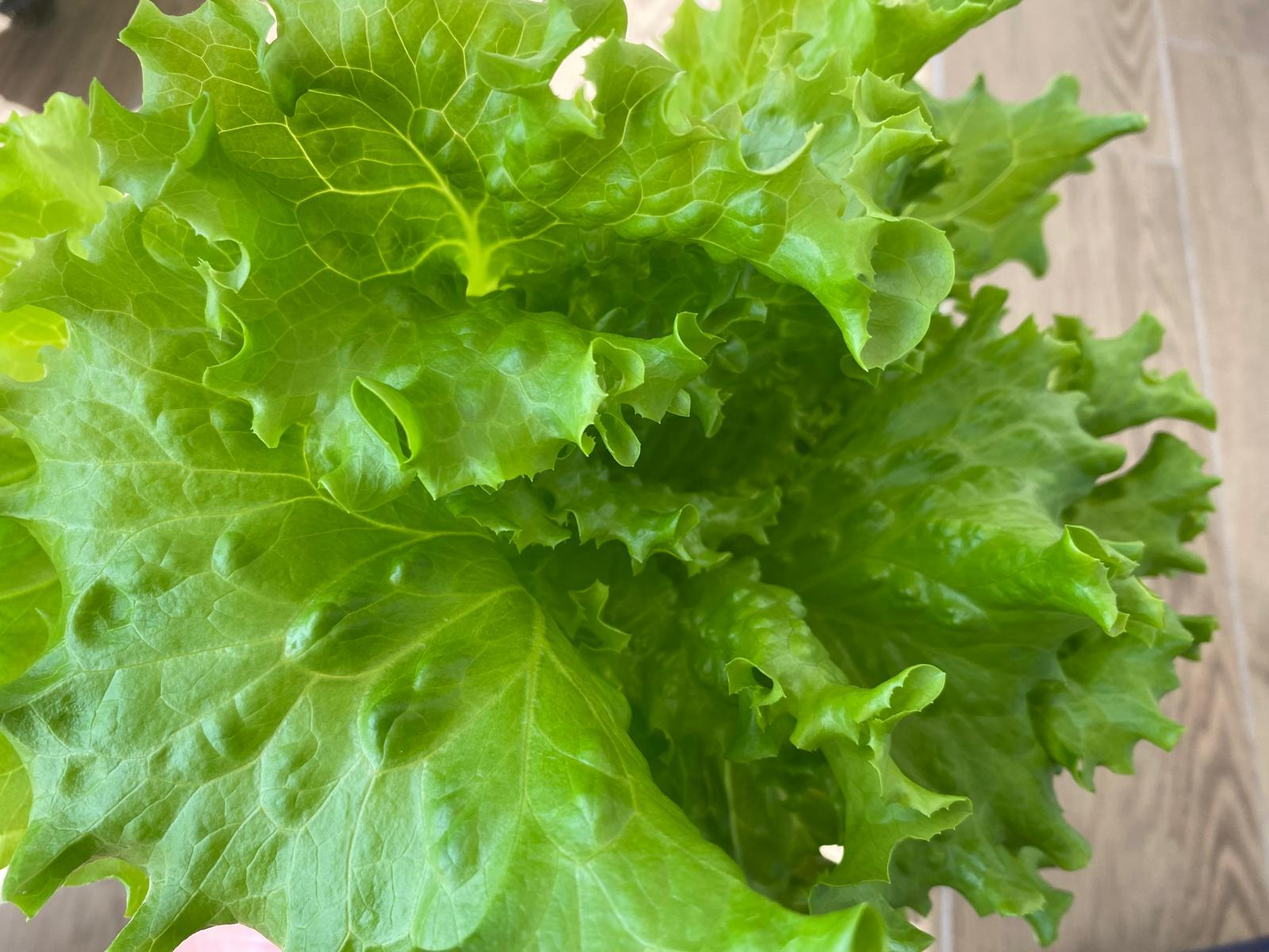Healthy: (0, 0, 1223, 952)
